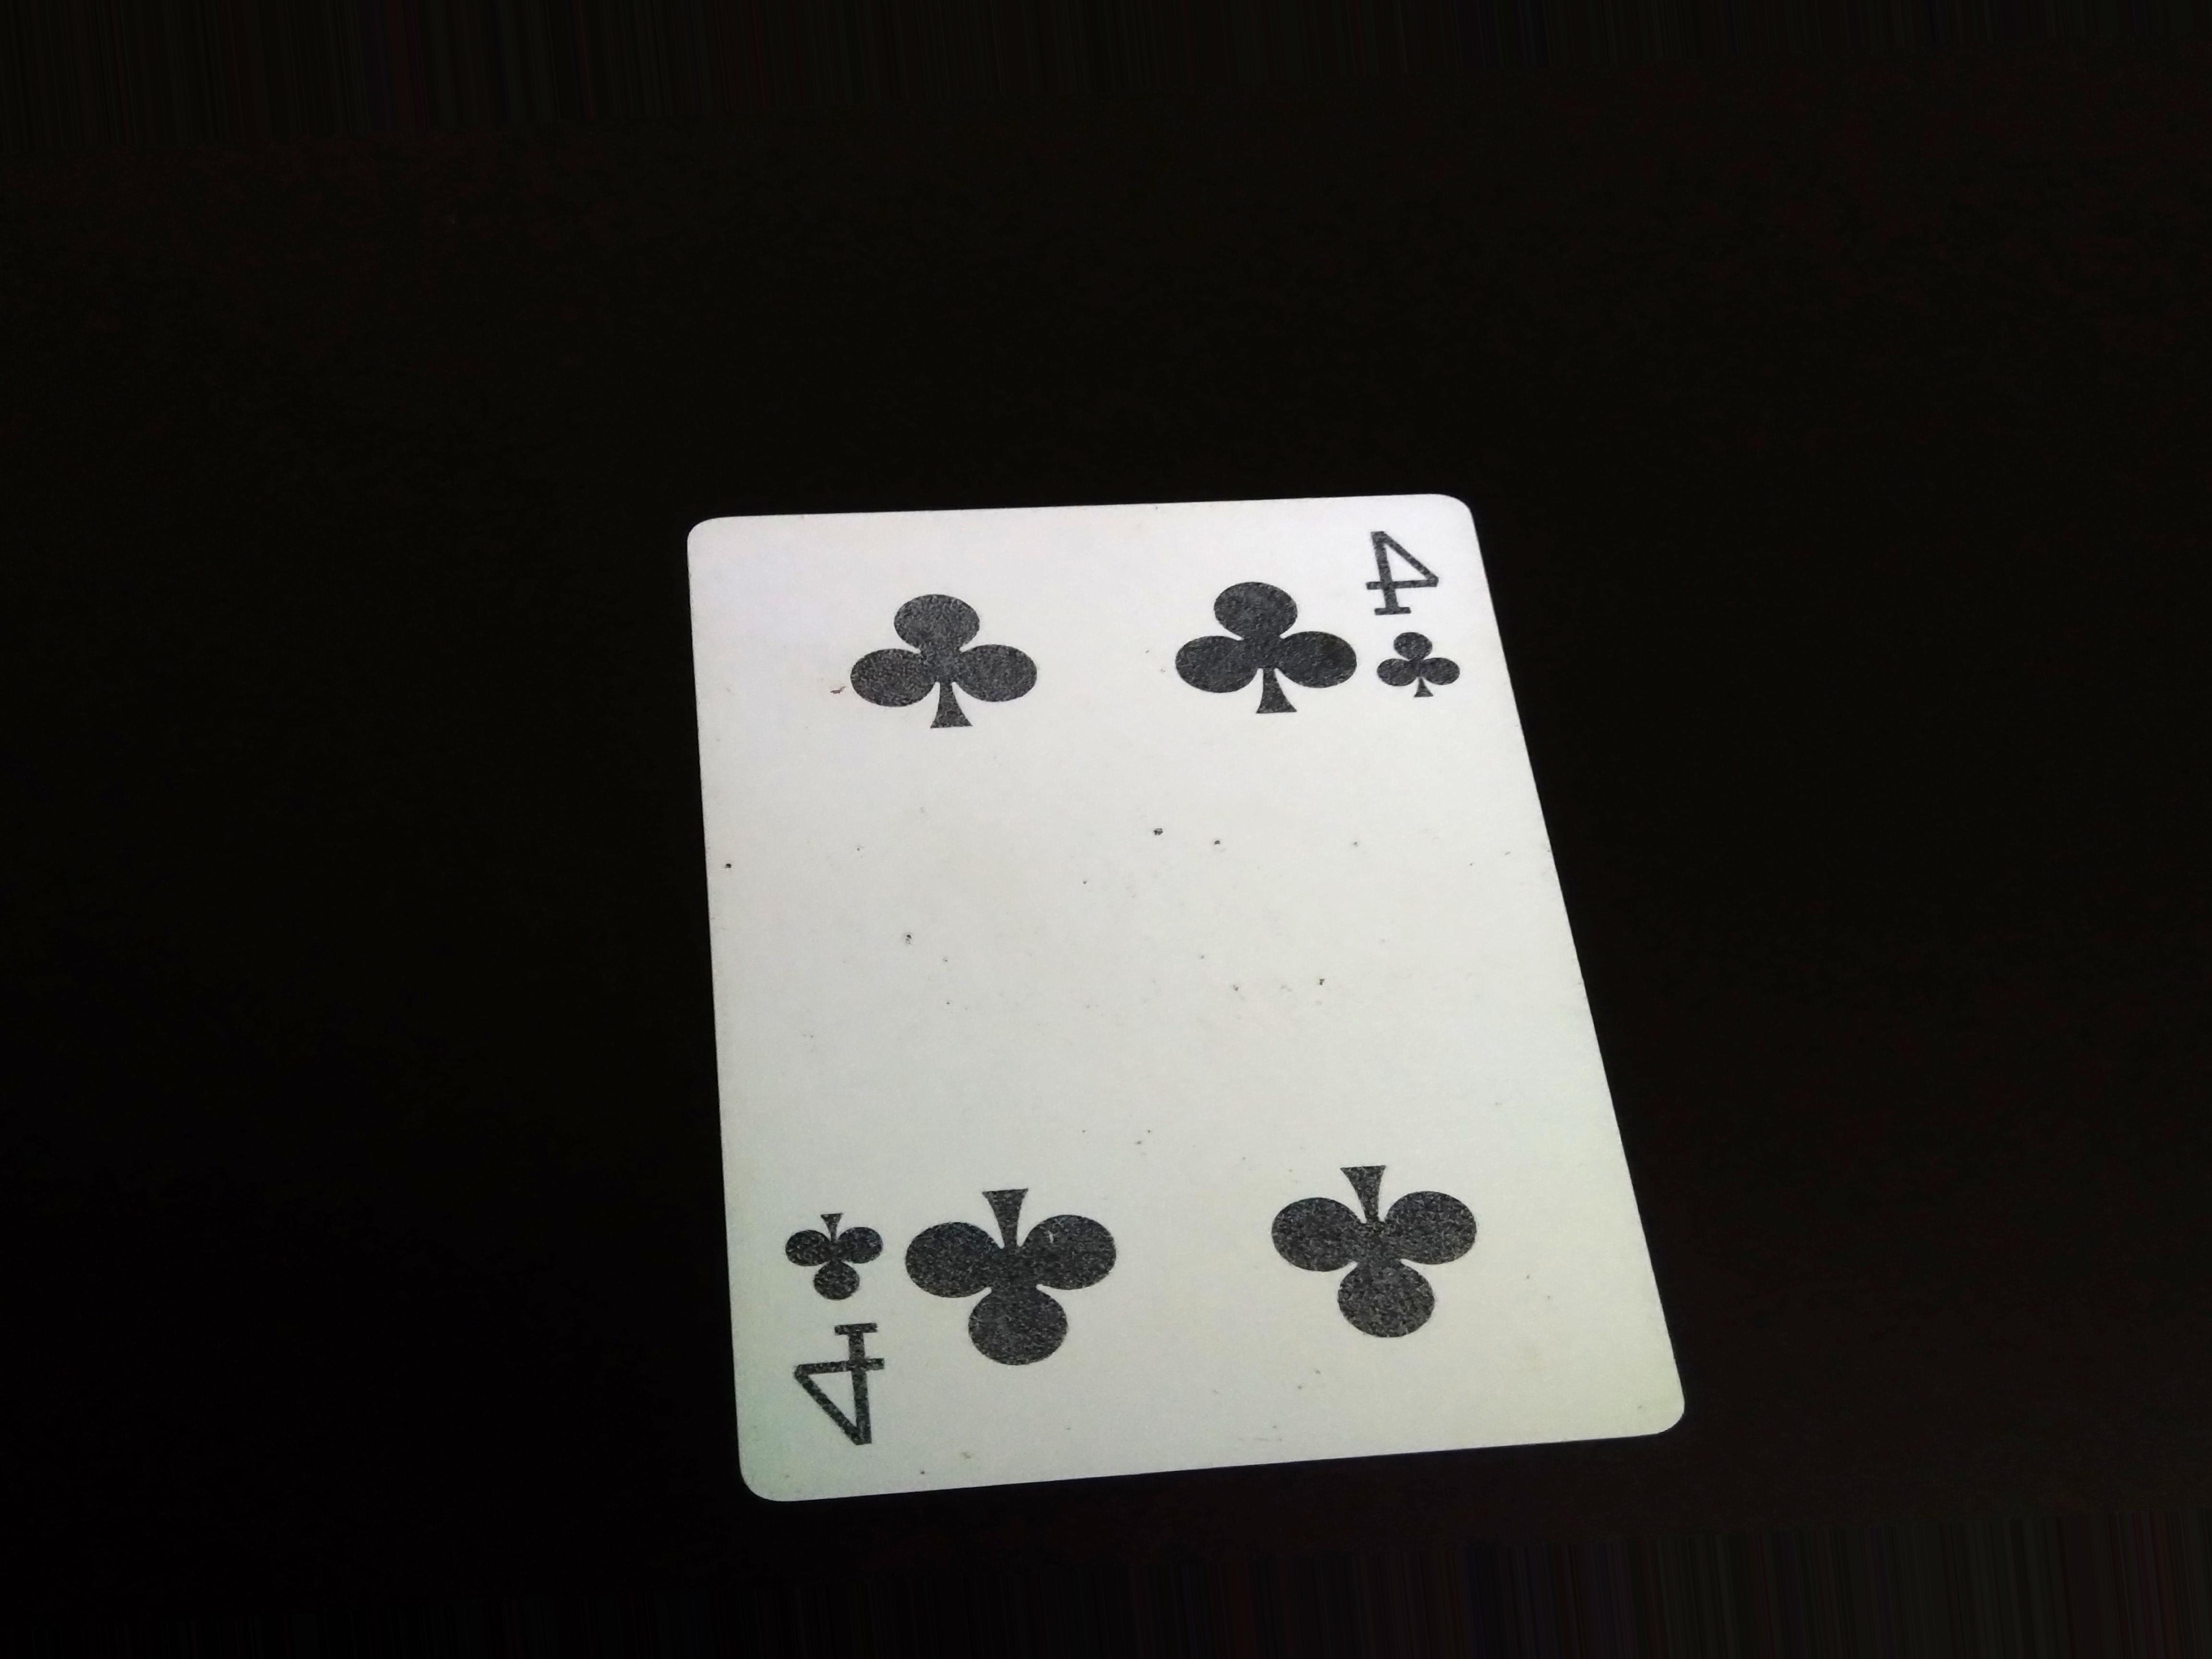4C: (1371, 512, 1467, 725)
